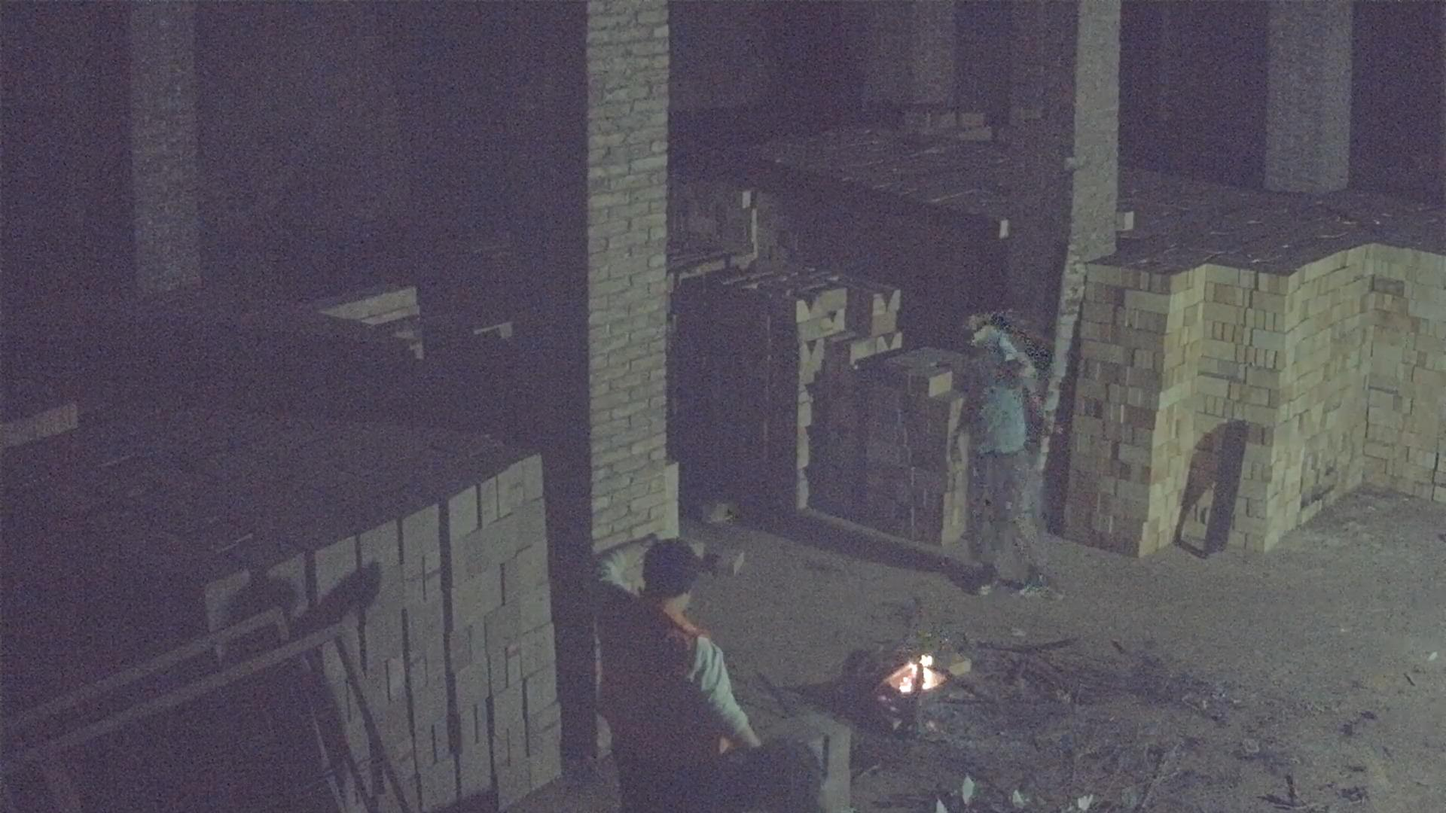fire: (883, 654, 947, 696)
